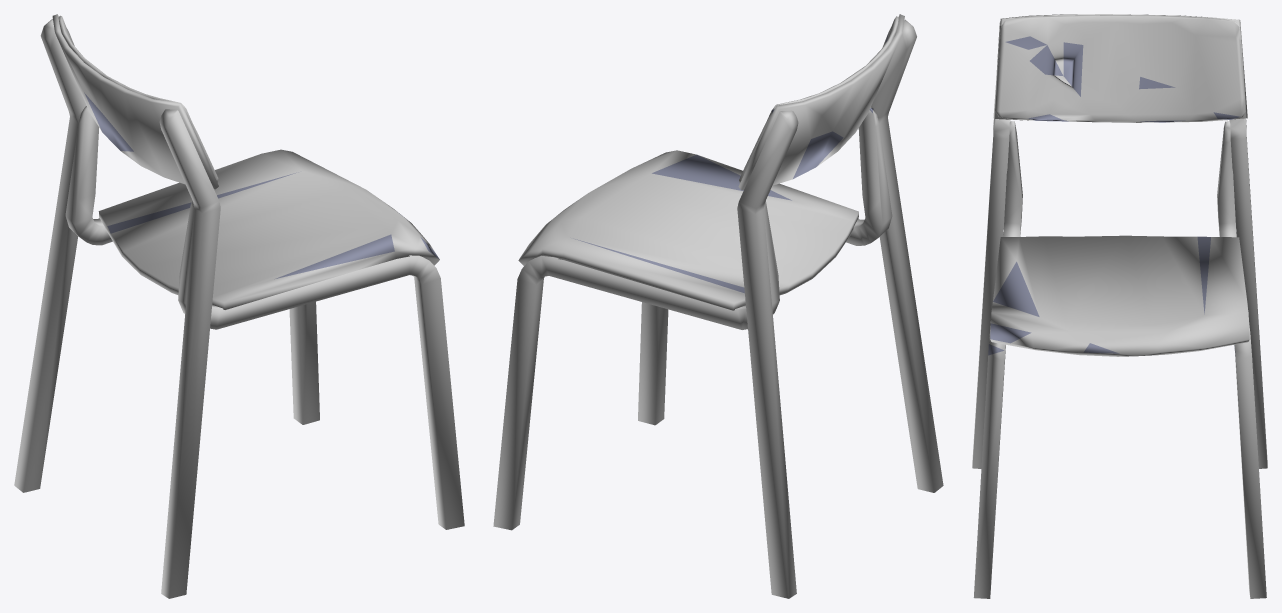
3 views of the same model, side by side, from view 1: azimuth 30°, elevation 25°; view 2: azimuth 150°, elevation 25°; view 3: azimuth 270°, elevation 25° (orthographic). The views are drawn at different scales.
Parts seen in each view (by area): view 1: instance_0.006_ID44; view 2: instance_0.006_ID44; view 3: instance_0.006_ID44.
Part boxes in pixels (box(x1,y1,x2,y2)): instance_0.006_ID44: box(14, 14, 464, 598); instance_0.006_ID44: box(493, 14, 943, 598); instance_0.006_ID44: box(972, 14, 1267, 598).
Bounding box in the file's own units: 0.4959 × 0.7489 × 0.4394.
